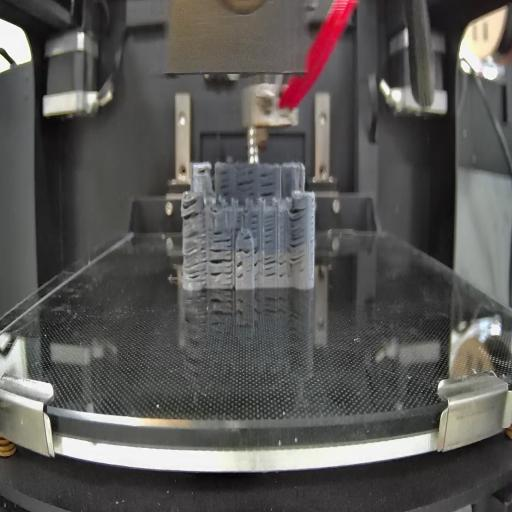cracks: (184, 230, 208, 280), (288, 206, 308, 266), (210, 247, 233, 282), (262, 252, 288, 280), (181, 199, 206, 222), (238, 169, 257, 198), (258, 170, 277, 197), (264, 212, 277, 246), (216, 170, 232, 197), (213, 230, 232, 245), (234, 211, 243, 231), (254, 245, 260, 272), (237, 246, 253, 256), (237, 260, 245, 280), (251, 212, 259, 232), (196, 167, 210, 177), (243, 234, 252, 243)
